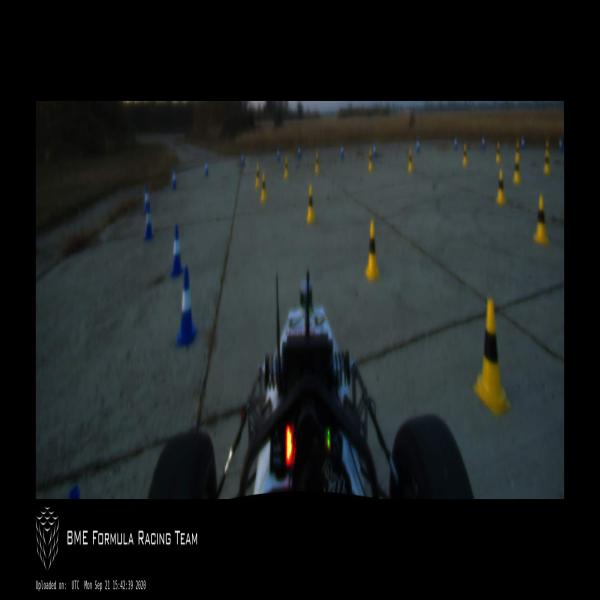blue_cone: (176, 266, 197, 348), (170, 225, 183, 277), (144, 203, 154, 241), (144, 185, 150, 212), (172, 169, 176, 189), (373, 142, 377, 159), (521, 134, 525, 150), (558, 136, 562, 151), (205, 159, 208, 176), (417, 137, 420, 153), (454, 135, 457, 151), (241, 152, 244, 166), (482, 136, 485, 149), (298, 146, 301, 158), (341, 143, 343, 158), (278, 148, 280, 161)
yellow_cone: (473, 300, 511, 415), (365, 219, 381, 281), (533, 196, 548, 245), (496, 168, 506, 206), (307, 184, 315, 224), (512, 154, 520, 184), (260, 173, 266, 202), (544, 150, 550, 175), (462, 144, 468, 166), (255, 164, 260, 188), (284, 156, 289, 179), (515, 141, 520, 162), (408, 148, 412, 172), (496, 141, 500, 163), (315, 152, 319, 173), (369, 149, 372, 170), (546, 138, 549, 150)
